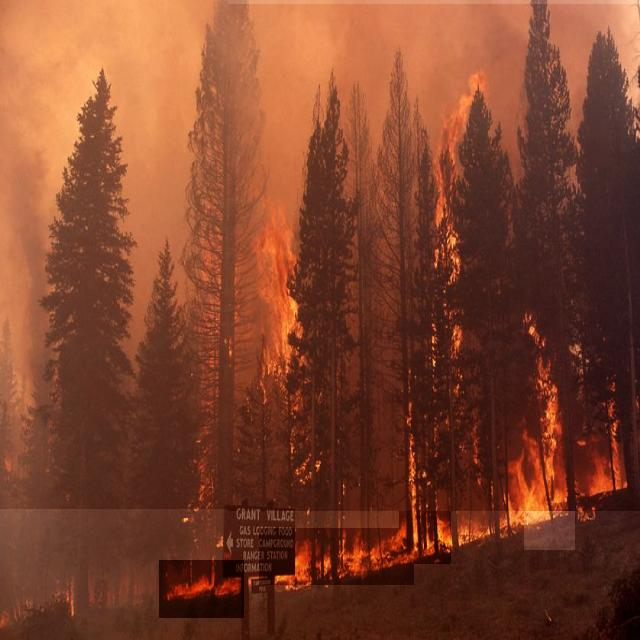Fire: (253, 213, 320, 409), (428, 118, 471, 409), (524, 372, 575, 550), (259, 528, 414, 585), (399, 422, 451, 564), (159, 560, 244, 618)
Smoke: (228, 4, 640, 511), (0, 0, 228, 509)
